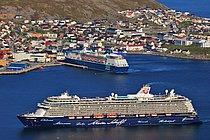Ship: (17, 91, 206, 133)
